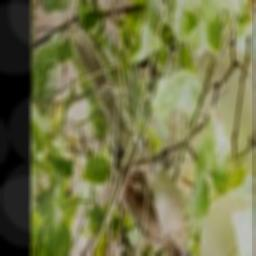Cuckoo: (72, 33, 196, 256)
